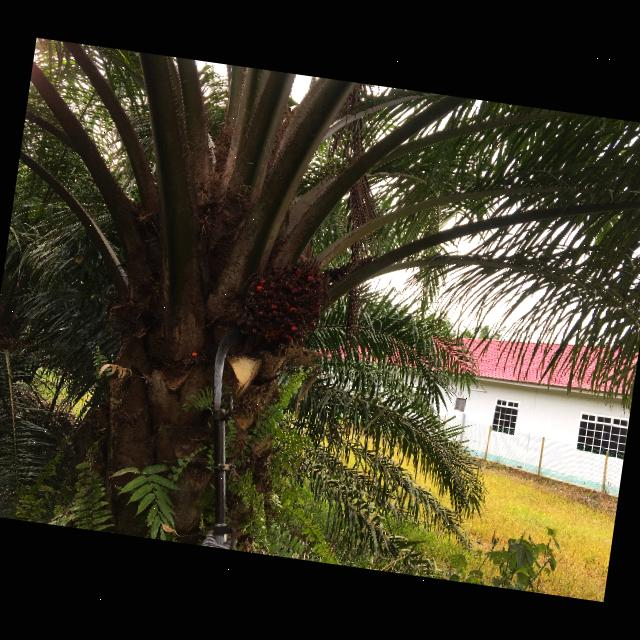Ripe: (251, 266, 318, 344)
